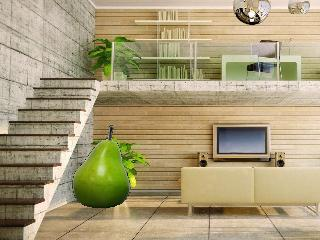pear: (71, 124, 135, 210)
